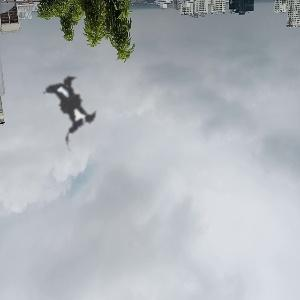drone: (2, 32, 141, 171)
